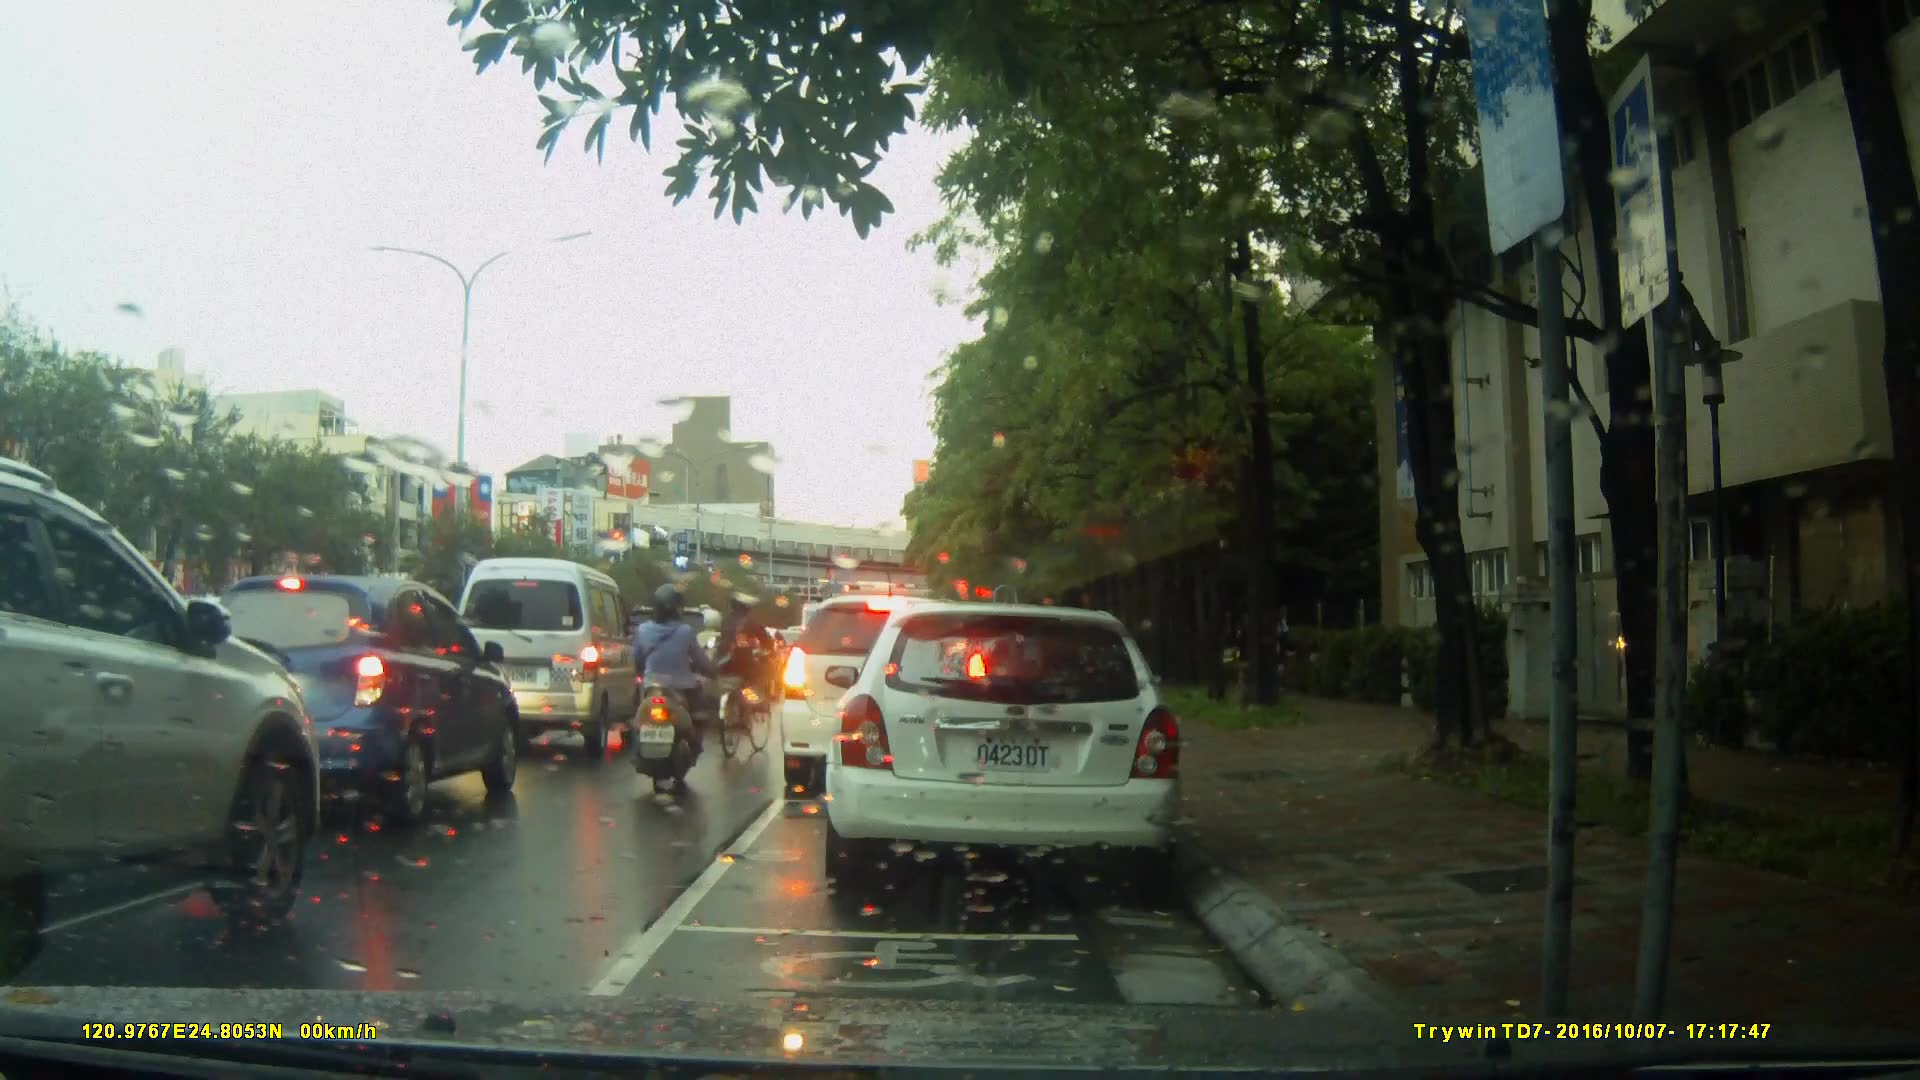pedestrian: (1275, 592, 1295, 709)
rider: (638, 581, 714, 796), (725, 587, 786, 763), (694, 606, 739, 721)
vehicle: (1, 453, 327, 987), (815, 593, 1204, 909), (188, 572, 528, 826), (775, 594, 989, 794), (452, 557, 646, 759), (614, 602, 749, 717)
